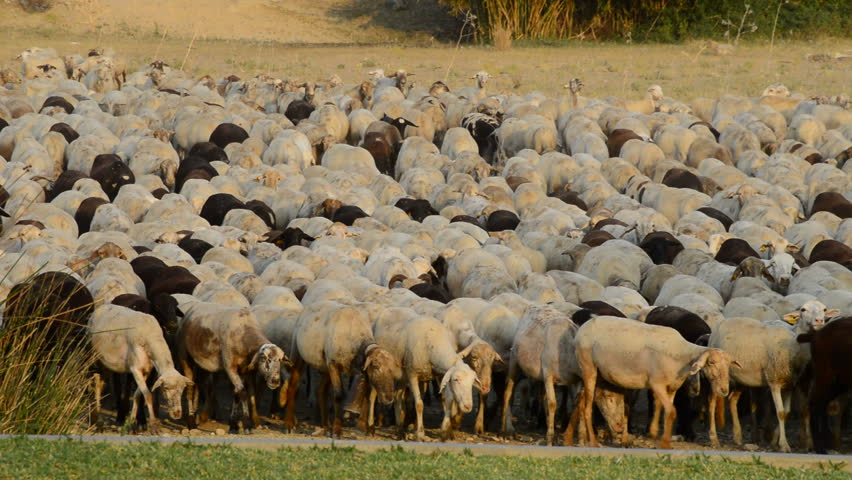sheep: (571, 314, 741, 450), (706, 296, 843, 456), (368, 307, 480, 454), (294, 294, 402, 445), (174, 296, 289, 433), (85, 301, 196, 435), (460, 307, 512, 436)
